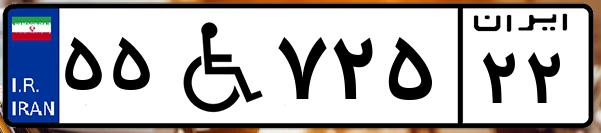2: (330, 28, 385, 110), (475, 38, 525, 113), (525, 38, 570, 115)
5: (385, 28, 445, 110), (57, 26, 110, 100), (110, 28, 158, 98)
7: (270, 28, 330, 110)
ژ (معلولین و جانبازان): (158, 12, 270, 120)
